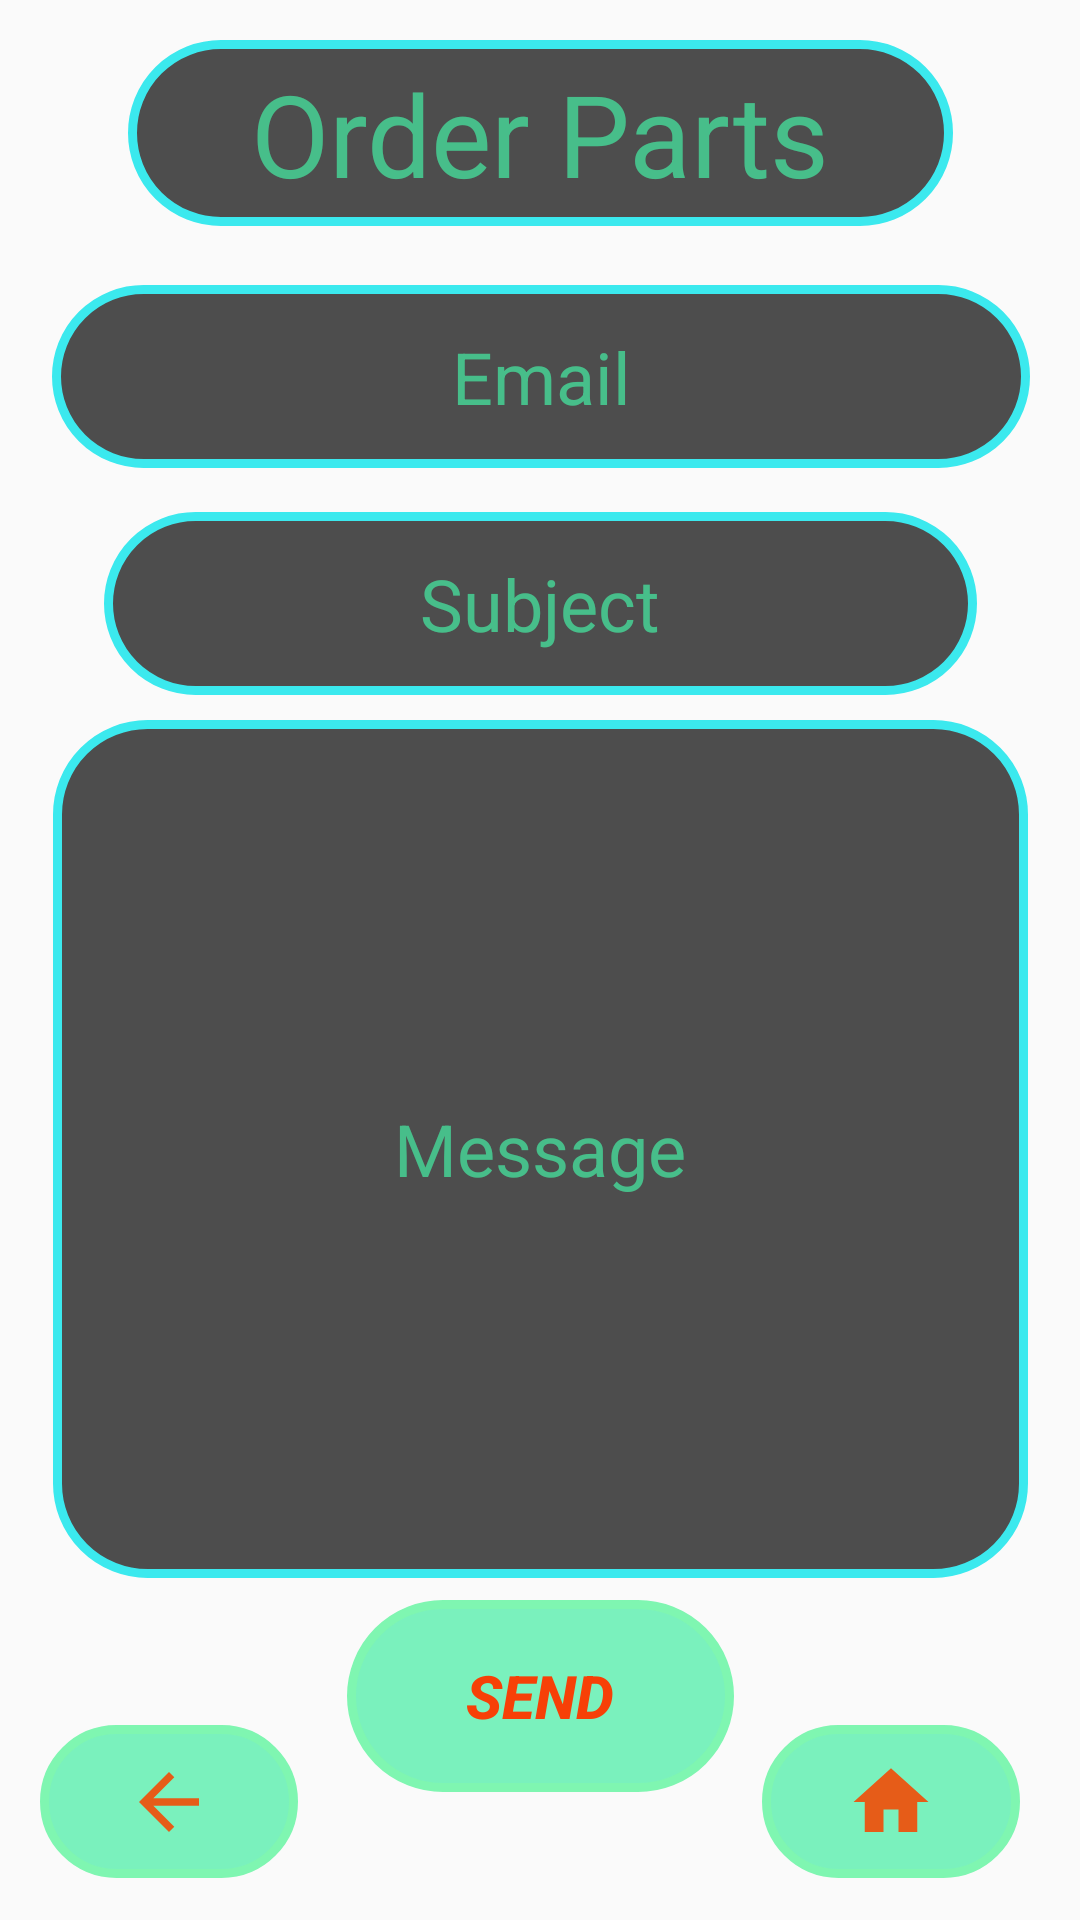

Icon bounding boxes for this 1080px×1920px phone screenshot, format (x1, y1, x2, y2):
arrow back: (40, 1725, 298, 1878)
home: (762, 1725, 1020, 1878)
